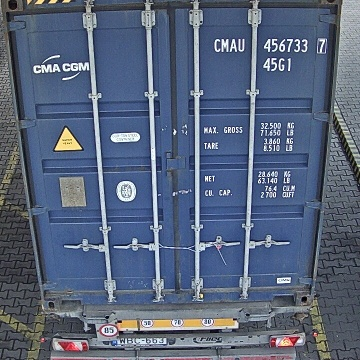serial_id: (214, 38, 326, 51)
